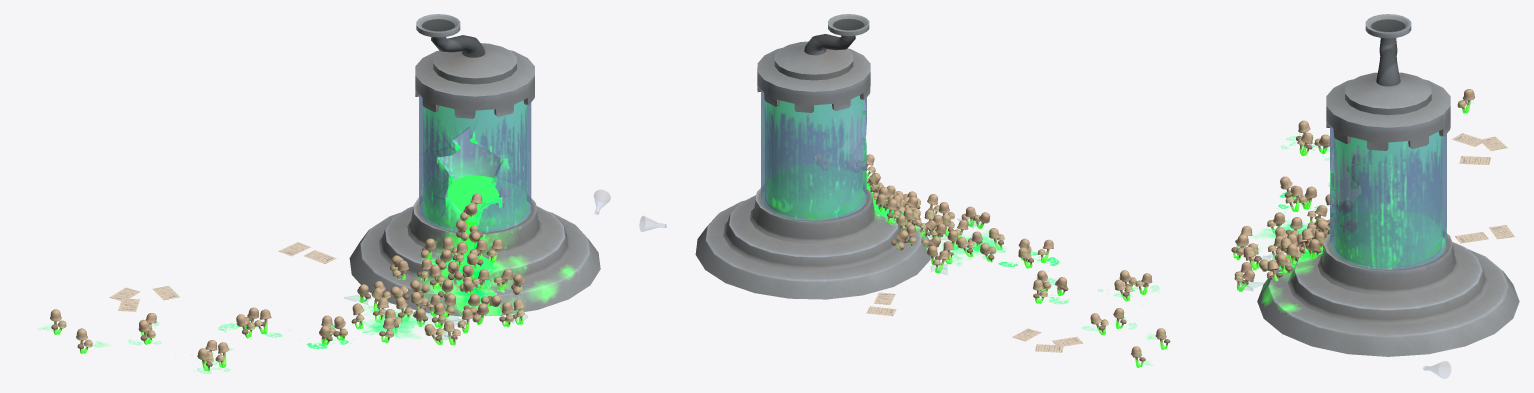
File: honguitos.glb
The picture shows the model from 3 angles, left to right: view 1: azimuth 30°, elevation 25°; view 2: azimuth 150°, elevation 25°; view 3: azimuth 270°, elevation 25°; orthographic projection. The views are drawn at different scales.
Visible parts, largest first — view 1: Tank_bottom, Tank_glass, Tank_head, Liquid, Splatter; view 2: Tank_bottom, Tank_glass, Tank_head, Liquid, Splatter; view 3: Tank_bottom, Tank_glass, Tank_head, Liquid, Splatter, Flask3, Paper20, Paper17, Paper19, Mushroom_cluster40, Mushroom_cluster52, Paper21 (+4 smaller).
Part boxes in pixels (left/top/right/bottom): Tank_bottom: left=349, top=195, right=600, bottom=316; Tank_glass: left=419, top=95, right=531, bottom=232; Tank_head: left=415, top=14, right=534, bottom=118; Liquid: left=424, top=175, right=526, bottom=271; Splatter: left=361, top=305, right=444, bottom=340; Tank_bottom: left=695, top=185, right=930, bottom=299; Tank_glass: left=761, top=90, right=866, bottom=220; Tank_head: left=757, top=14, right=870, bottom=112; Liquid: left=766, top=164, right=893, bottom=218; Splatter: left=939, top=229, right=1006, bottom=266; Tank_bottom: left=1257, top=231, right=1519, bottom=356; Tank_glass: left=1330, top=126, right=1446, bottom=269; Tank_head: left=1326, top=14, right=1450, bottom=150; Liquid: left=1302, top=211, right=1441, bottom=265; Splatter: left=1251, top=219, right=1311, bottom=252; Flask3: left=1423, top=361, right=1450, bottom=378; Paper20: left=1454, top=232, right=1488, bottom=243; Paper17: left=1451, top=133, right=1486, bottom=146; Paper19: left=1459, top=156, right=1491, bottom=164; Mushroom_cluster40: left=1231, top=234, right=1248, bottom=260; Mushroom_cluster52: left=1297, top=132, right=1313, bottom=155; Paper21: left=1488, top=225, right=1514, bottom=239.
Size of the model in its own units: 8.89 by 3.83 by 3.78.
5 materials, 5 textured.
